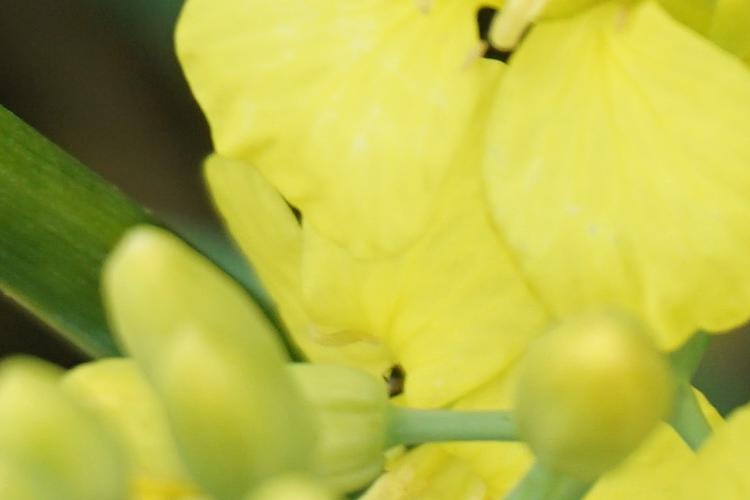bud: (95, 239, 323, 481), (10, 347, 381, 494), (522, 324, 664, 474)
yellow: (179, 4, 733, 371)
